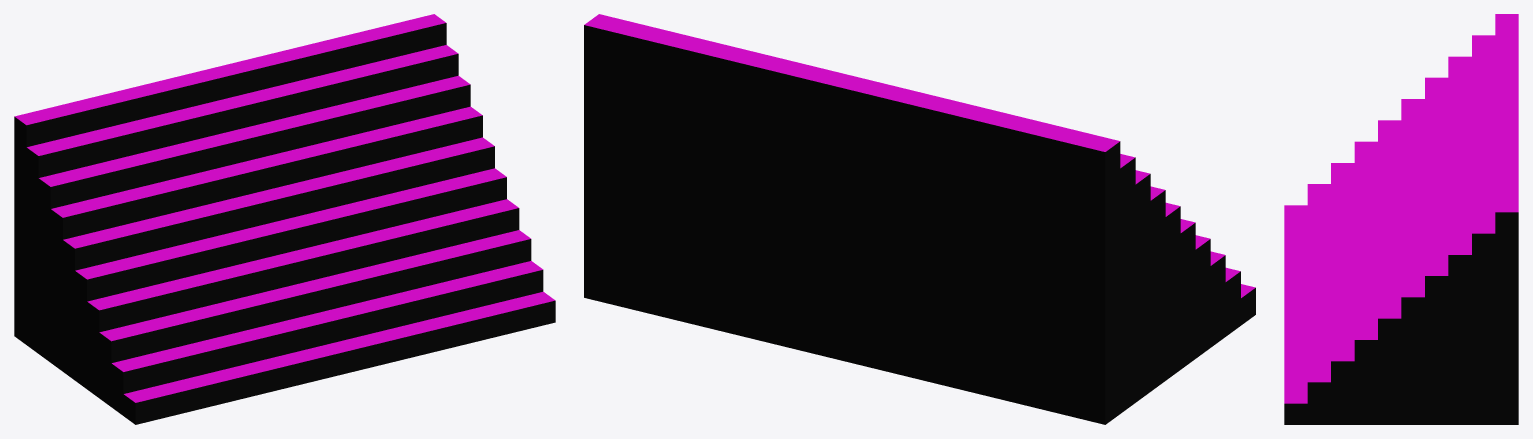
The model's file is Stairs - 3x3.fbx.
3 renders of one model, left to right at view 1: azimuth 30°, elevation 25°; view 2: azimuth 150°, elevation 25°; view 3: azimuth 270°, elevation 25°, orthographic. The views are drawn at different scales.
Visible parts, largest first — view 1: pCube1; view 2: pCube1; view 3: pCube1.
Boxes of the visible parts, bbox=[...] form: pCube1: bbox=[14, 14, 555, 424]; pCube1: bbox=[584, 14, 1255, 424]; pCube1: bbox=[1284, 14, 1518, 424].
Size of the model in its own units: 600 by 300 by 300.
